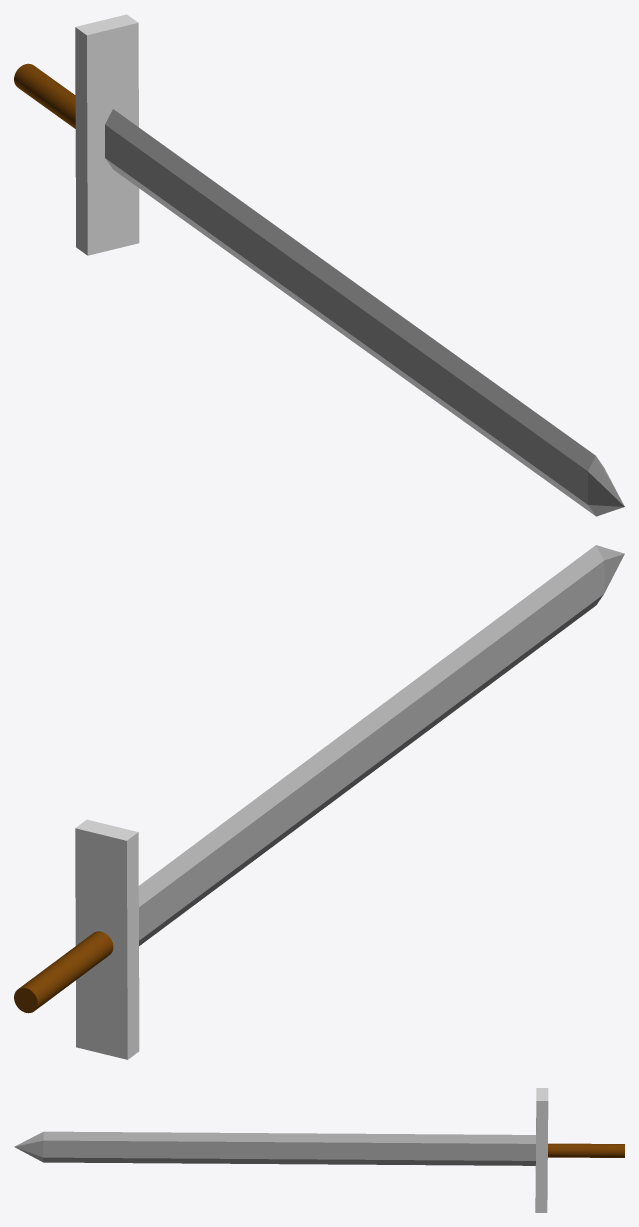
The model's file is Sword.obj.
3 views of the same model, one above another, from view 1: azimuth 30°, elevation 25°; view 2: azimuth 150°, elevation 25°; view 3: azimuth 270°, elevation 25° (orthographic). The views are drawn at different scales.
Parts seen in each view (by area): view 1: 立方体; view 2: 立方体; view 3: 立方体.
Part boxes in pixels (x1=…): 立方体: x1=14, y1=14, x2=624, y2=516; 立方体: x1=14, y1=545, x2=624, y2=1059; 立方体: x1=14, y1=1088, x2=624, y2=1212.
Bounding box in the file's own units: 0.0781 × 0.3177 × 1.57.
